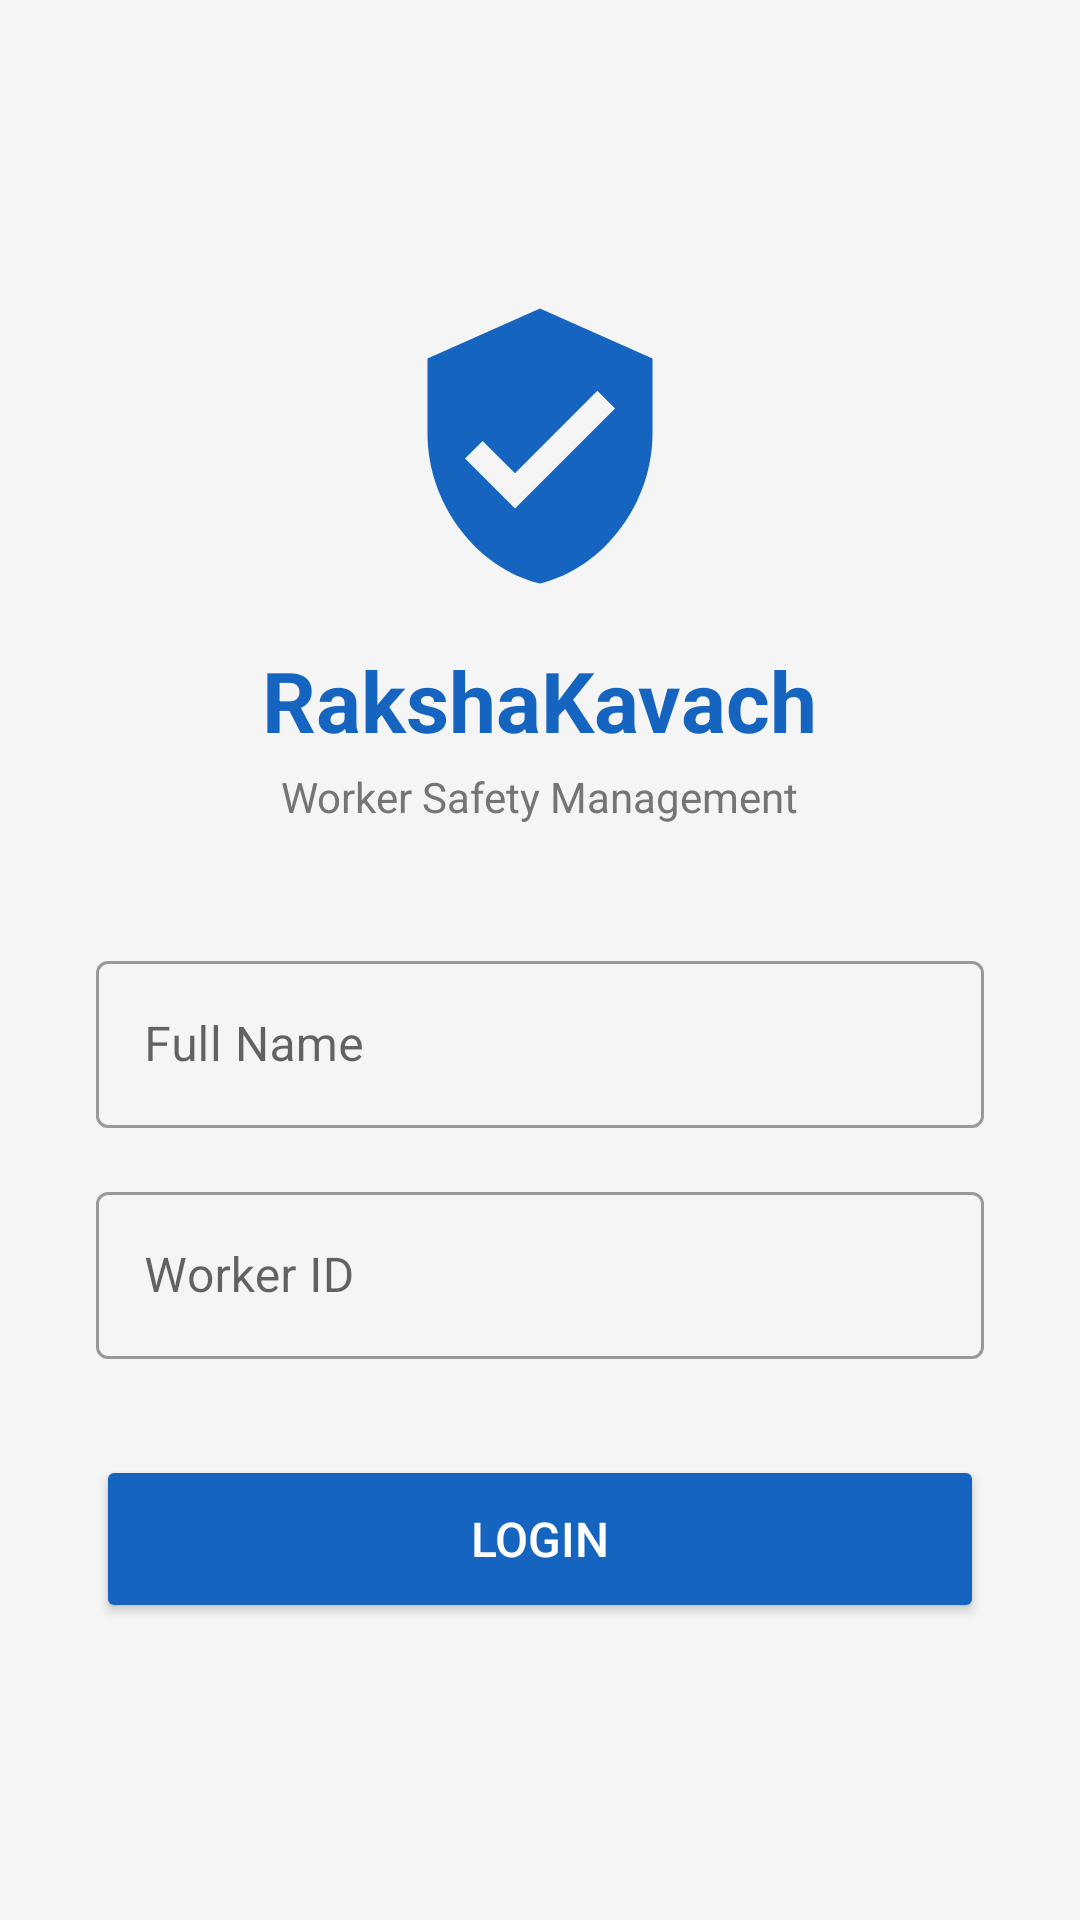

Where to tap for icons on this 1080w x 1920h app screen, as [x,y]:
shield: [540,446]
